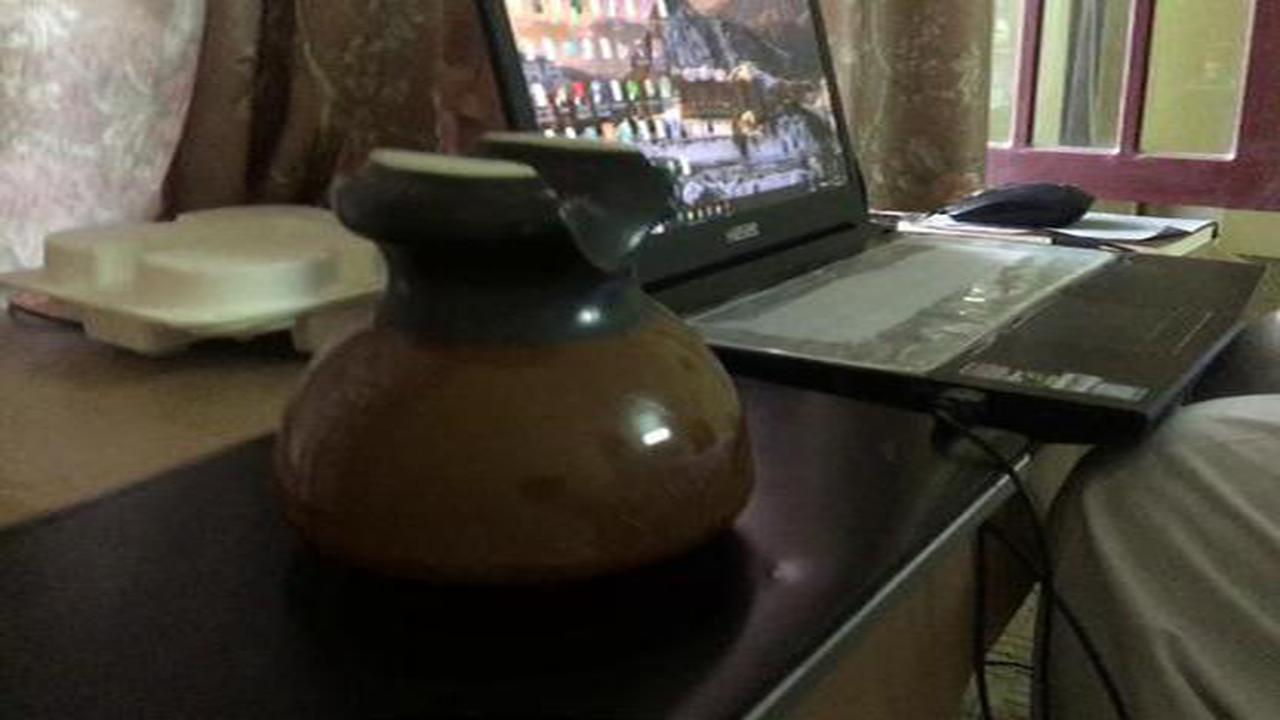insulator_pin: (247, 116, 776, 610)
